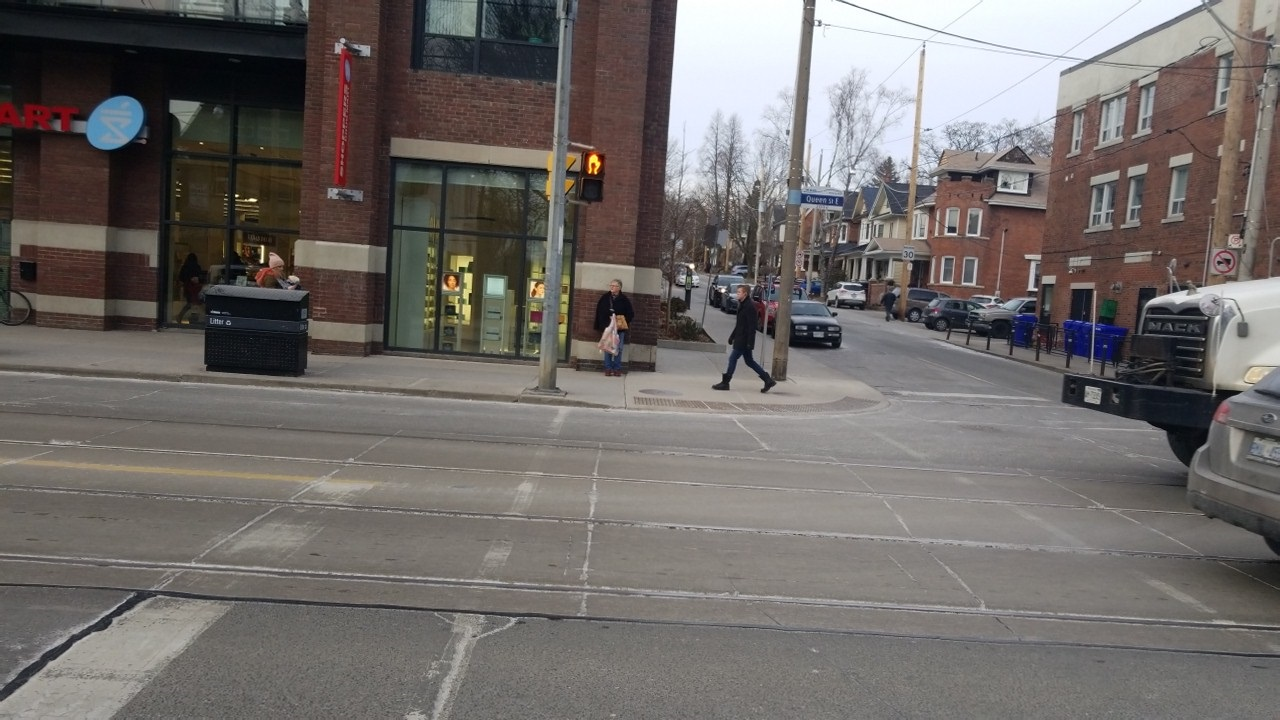light: (578, 146, 608, 205)
